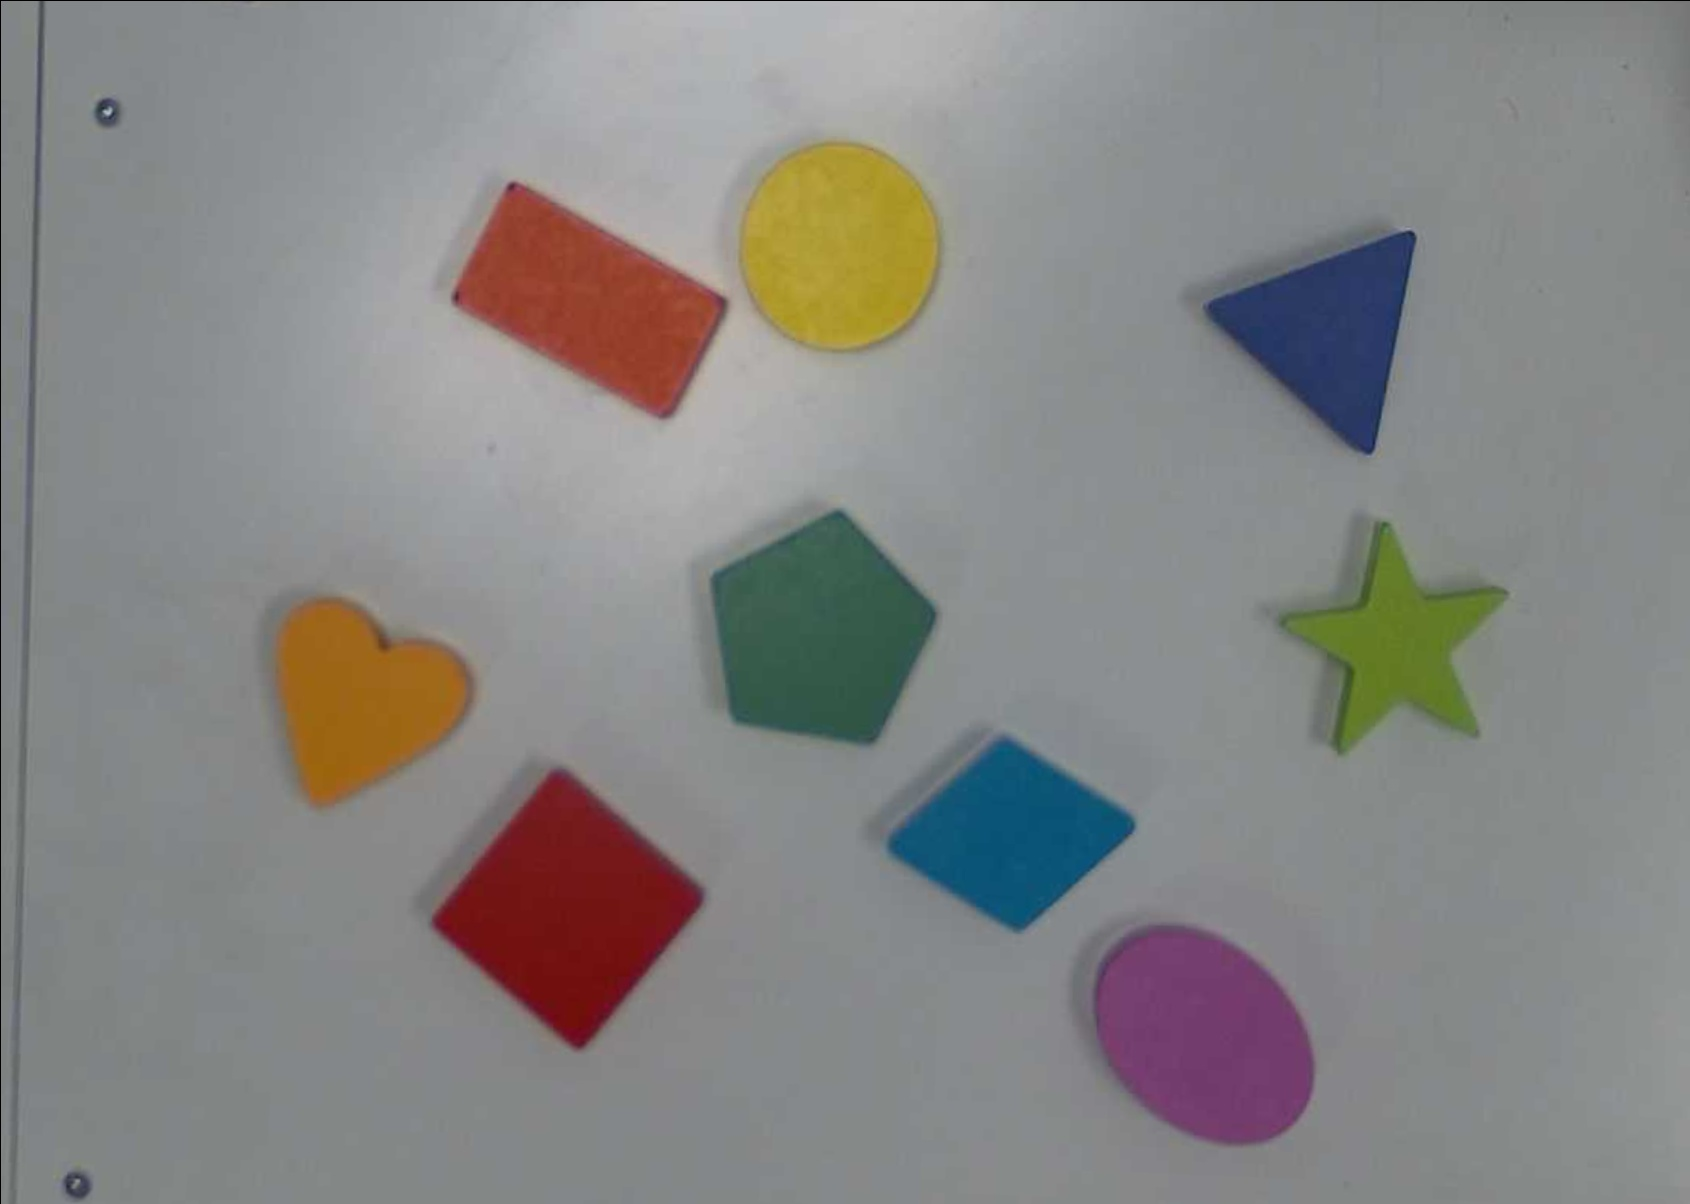Circle: (738, 139, 941, 352)
Ellipse: (1095, 928, 1313, 1147)
Heart: (275, 595, 472, 810)
Parallelogram: (887, 732, 1136, 934)
Pentagon: (710, 507, 939, 741)
Rectangle: (448, 180, 727, 421)
Square: (431, 764, 706, 1048)
Star: (1278, 517, 1511, 757)
Triangle: (1203, 229, 1416, 456)
